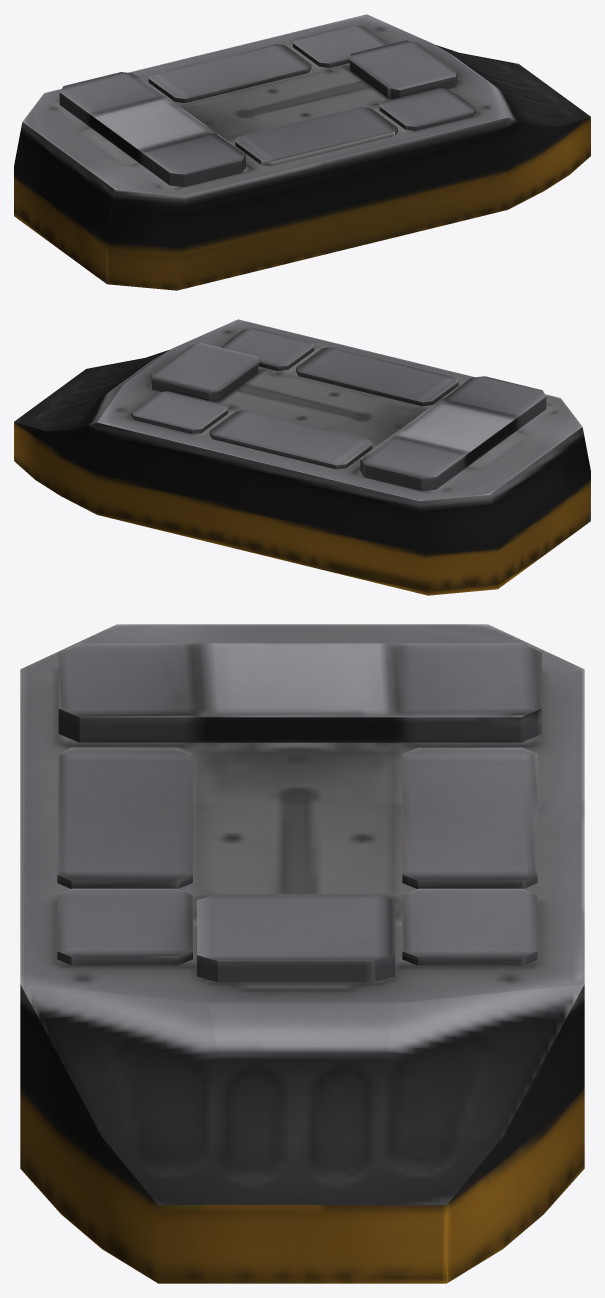
The model's file is l_foot.dae.
3 views of the same model, one above another, from view 1: azimuth 30°, elevation 25°; view 2: azimuth 150°, elevation 25°; view 3: azimuth 270°, elevation 25° (orthographic). The views are drawn at different scales.
Parts seen in each view (by area): view 1: drc_l_foot; view 2: drc_l_foot; view 3: drc_l_foot.
Part boxes in pixels (<box>): drc_l_foot: <box>14,14,590,290</box>; drc_l_foot: <box>14,319,590,595</box>; drc_l_foot: <box>20,624,584,1283</box>.
Bounding box in the file's own units: 0.2633 × 0.1301 × 0.0535.
Materials: 1 (1 with a texture image).
